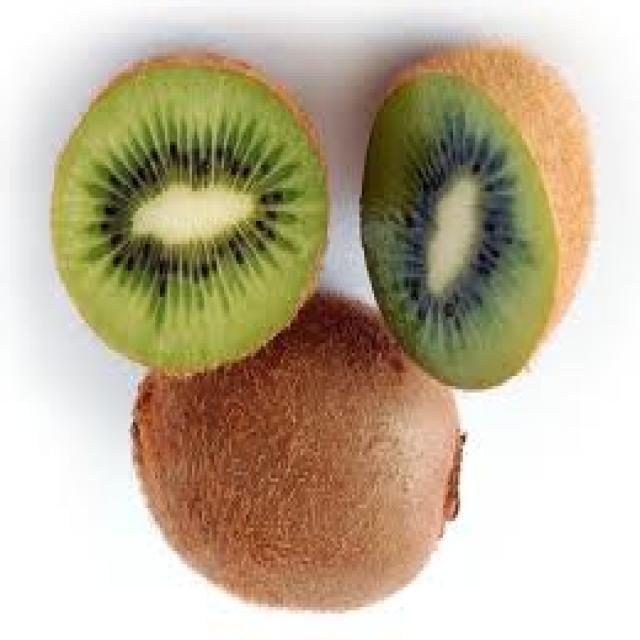Kiwi: (32, 52, 325, 376)
